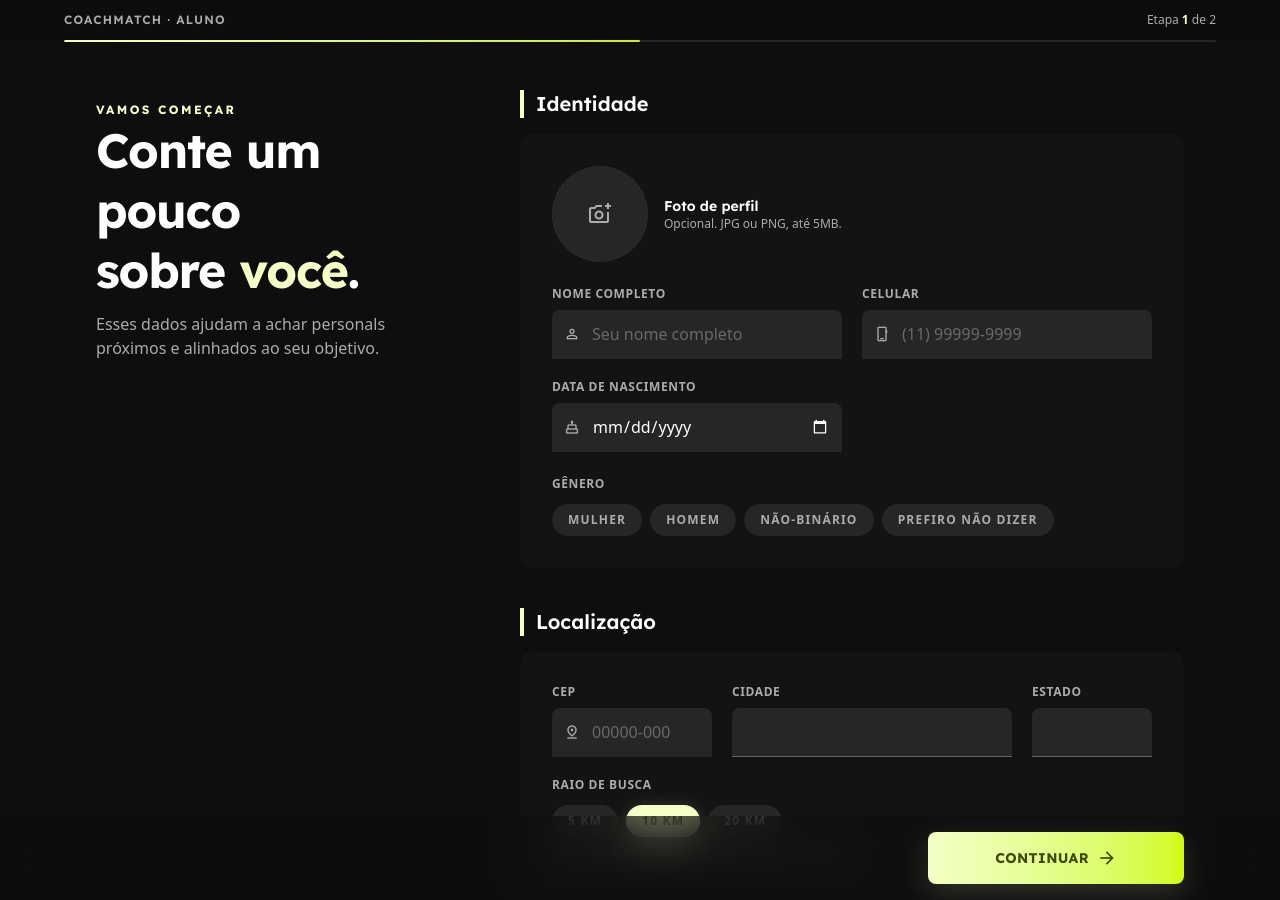
Test: ClientOnboardingPage › aplica máscaras de celular e CEP ao digitar
Type "11987654321" into the field with placeholder "(11) 99999-9999" at coordinates (1021, 334), box [902,322,1140,346]
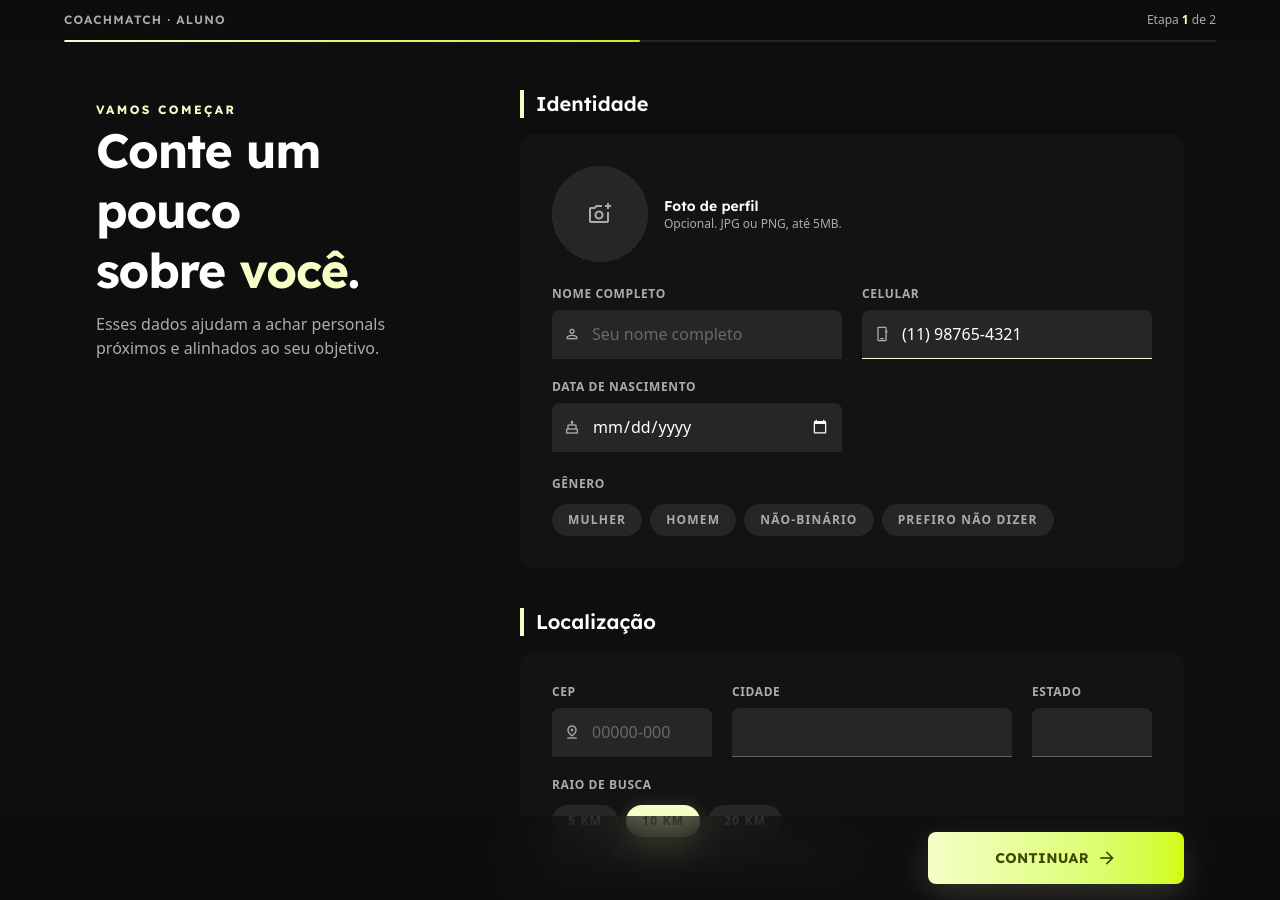
Type "01310100" into the field with placeholder "00000-000" at coordinates (646, 732), box [592,720,700,744]
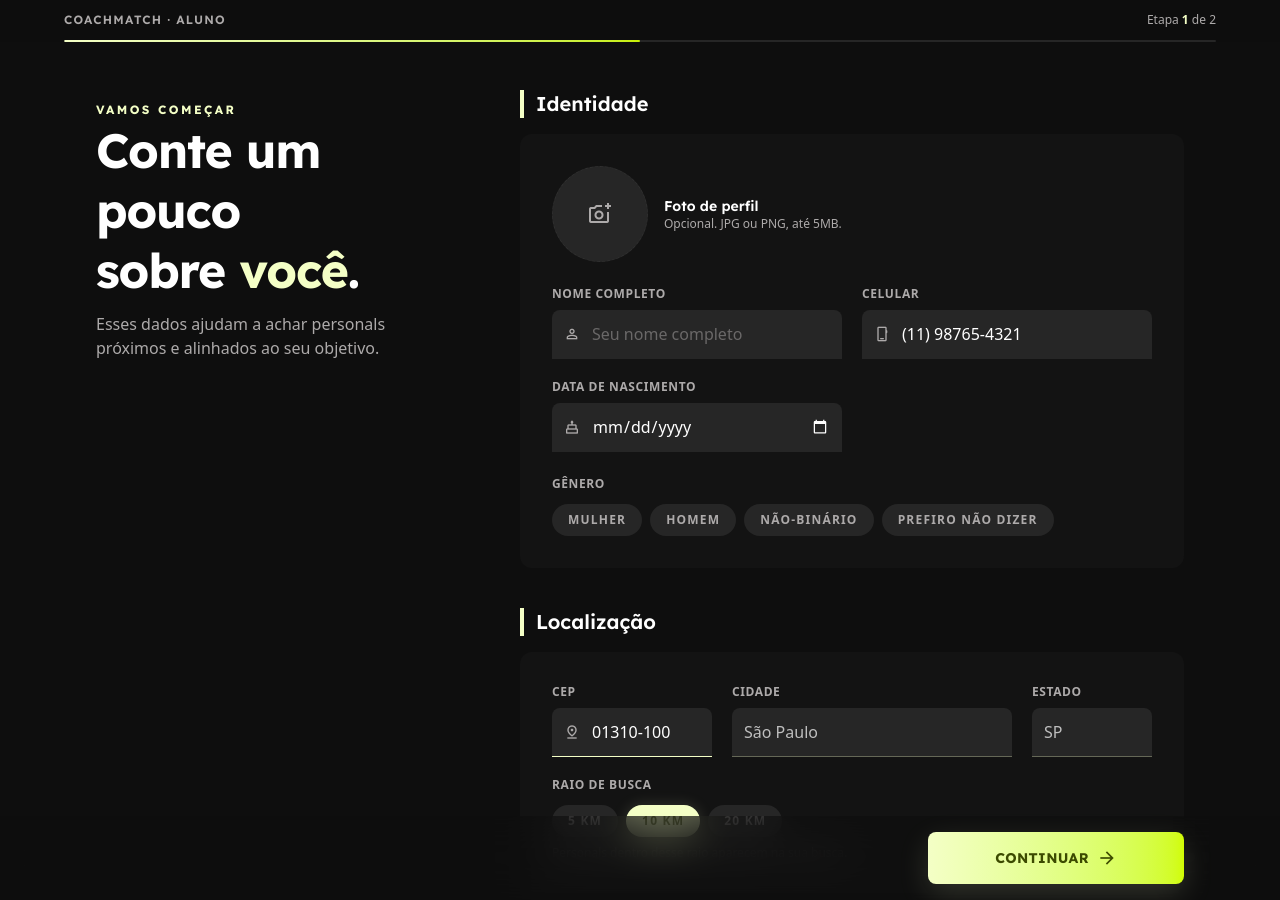
expect the field showing "(11) 98765-4321" is shown: met, box [902,322,1140,346]
expect the field showing "01310-100" is shown: met, box [592,720,700,744]
